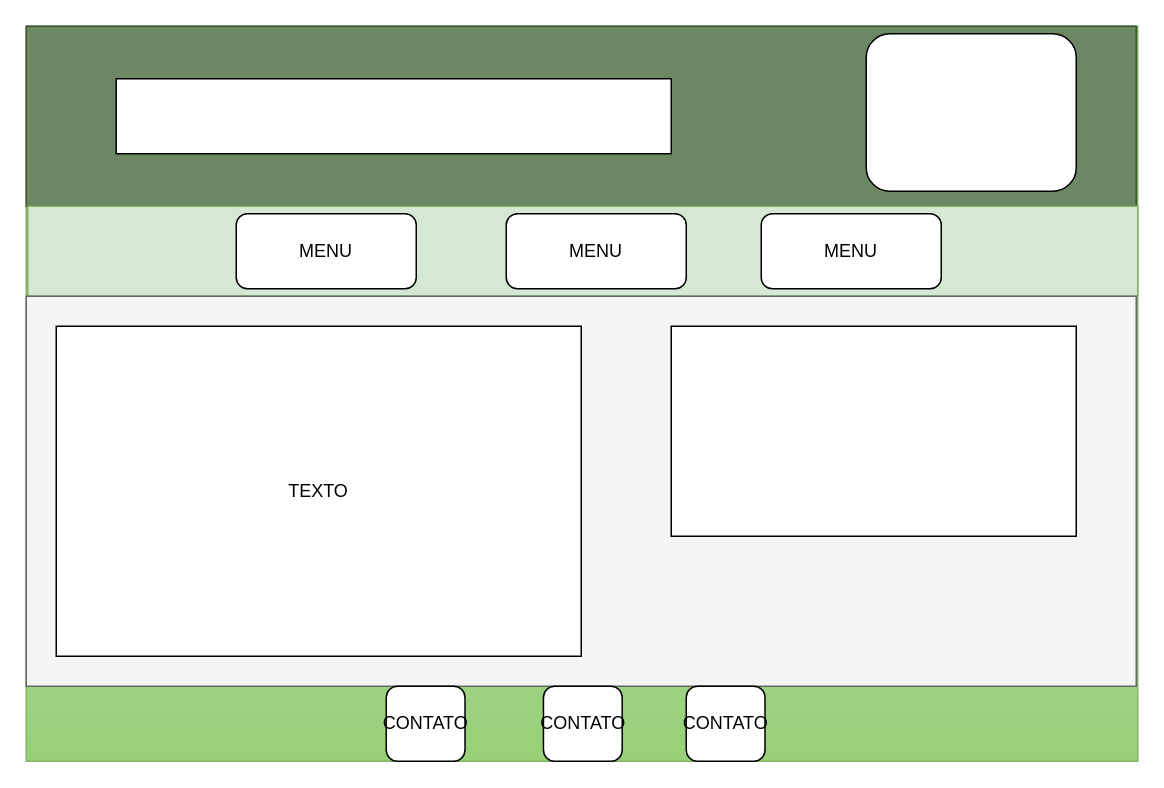
Image size: 1164x788. Some labels were removed from this diagram. Here are the shapes that lost their labels. From the top down, the centre of each, then its label:
At (393,115): "NOME".
At (970,111): "IMAGEM".
At (873,430): "TABELA".
